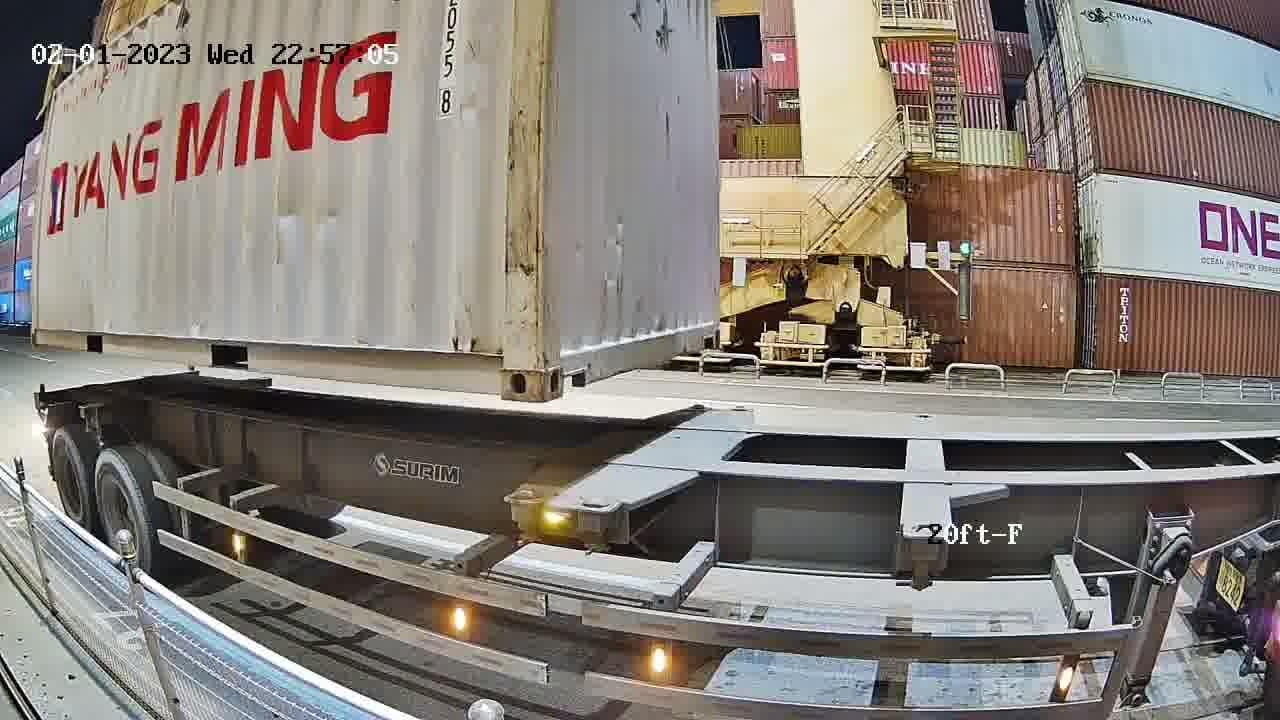Chassis: (514, 405, 711, 504), (580, 405, 753, 512)
Cone: (577, 496, 623, 556), (505, 486, 548, 545)
Hole_L: (540, 321, 595, 403)
Hole_R: (462, 327, 543, 405), (696, 313, 722, 349)
Tire: (96, 451, 154, 579), (50, 431, 93, 525)
